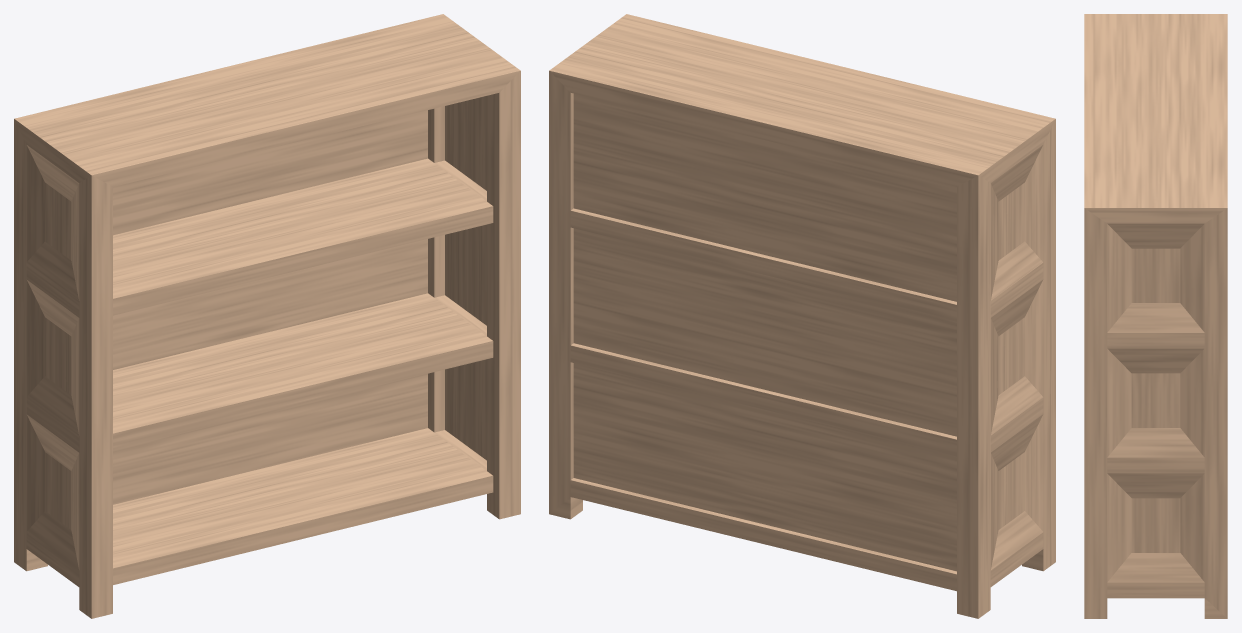
Rendered from bookcaseClosedWide.glb.
3 renders of one model, left to right at view 1: azimuth 30°, elevation 25°; view 2: azimuth 150°, elevation 25°; view 3: azimuth 270°, elevation 25°, orthographic. The views are drawn at different scales.
Visible parts, largest first — view 1: bookcaseClosedWide; view 2: bookcaseClosedWide; view 3: bookcaseClosedWide.
Boxes of the visible parts, left/top/right/bottom form: bookcaseClosedWide: left=14, top=14, right=520, bottom=618; bookcaseClosedWide: left=549, top=14, right=1055, bottom=618; bookcaseClosedWide: left=1084, top=14, right=1227, bottom=618.
Bounding box in the file's own units: 0.8 × 0.79 × 0.25.
Materials: 1 (1 with a texture image).
